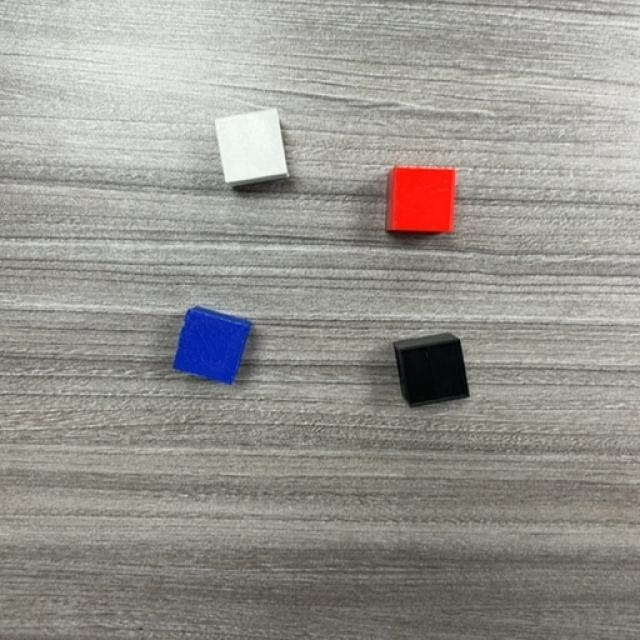Azul: (173, 306, 253, 386)
Blanco: (215, 109, 288, 182)
Negro: (393, 333, 469, 408)
Rojo: (387, 167, 456, 232)
